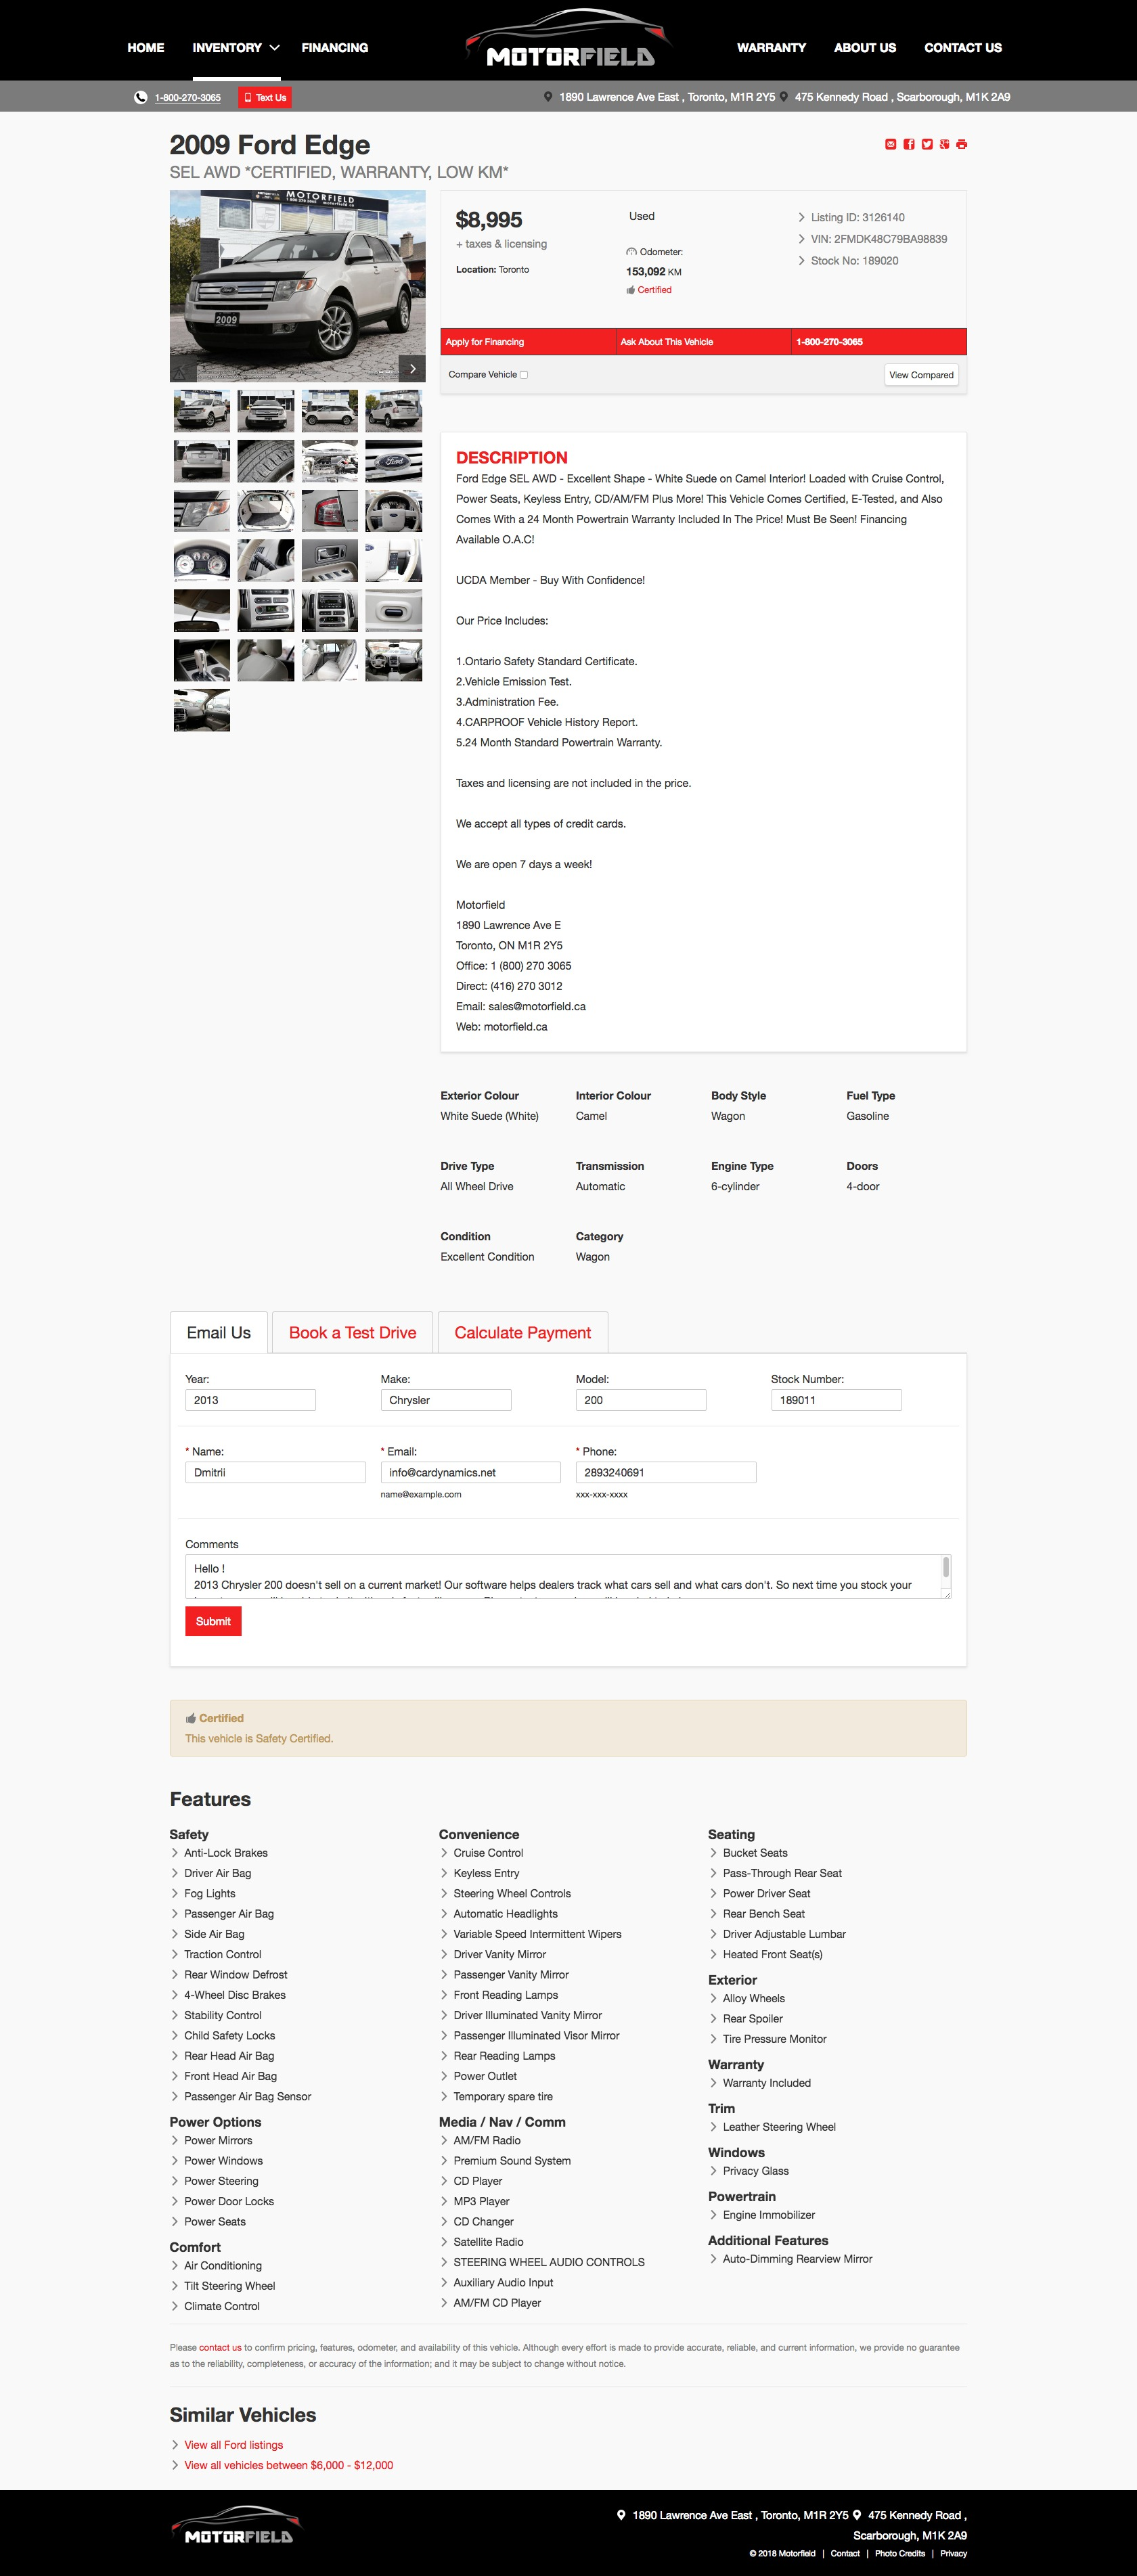car: (398, 355, 427, 384)
